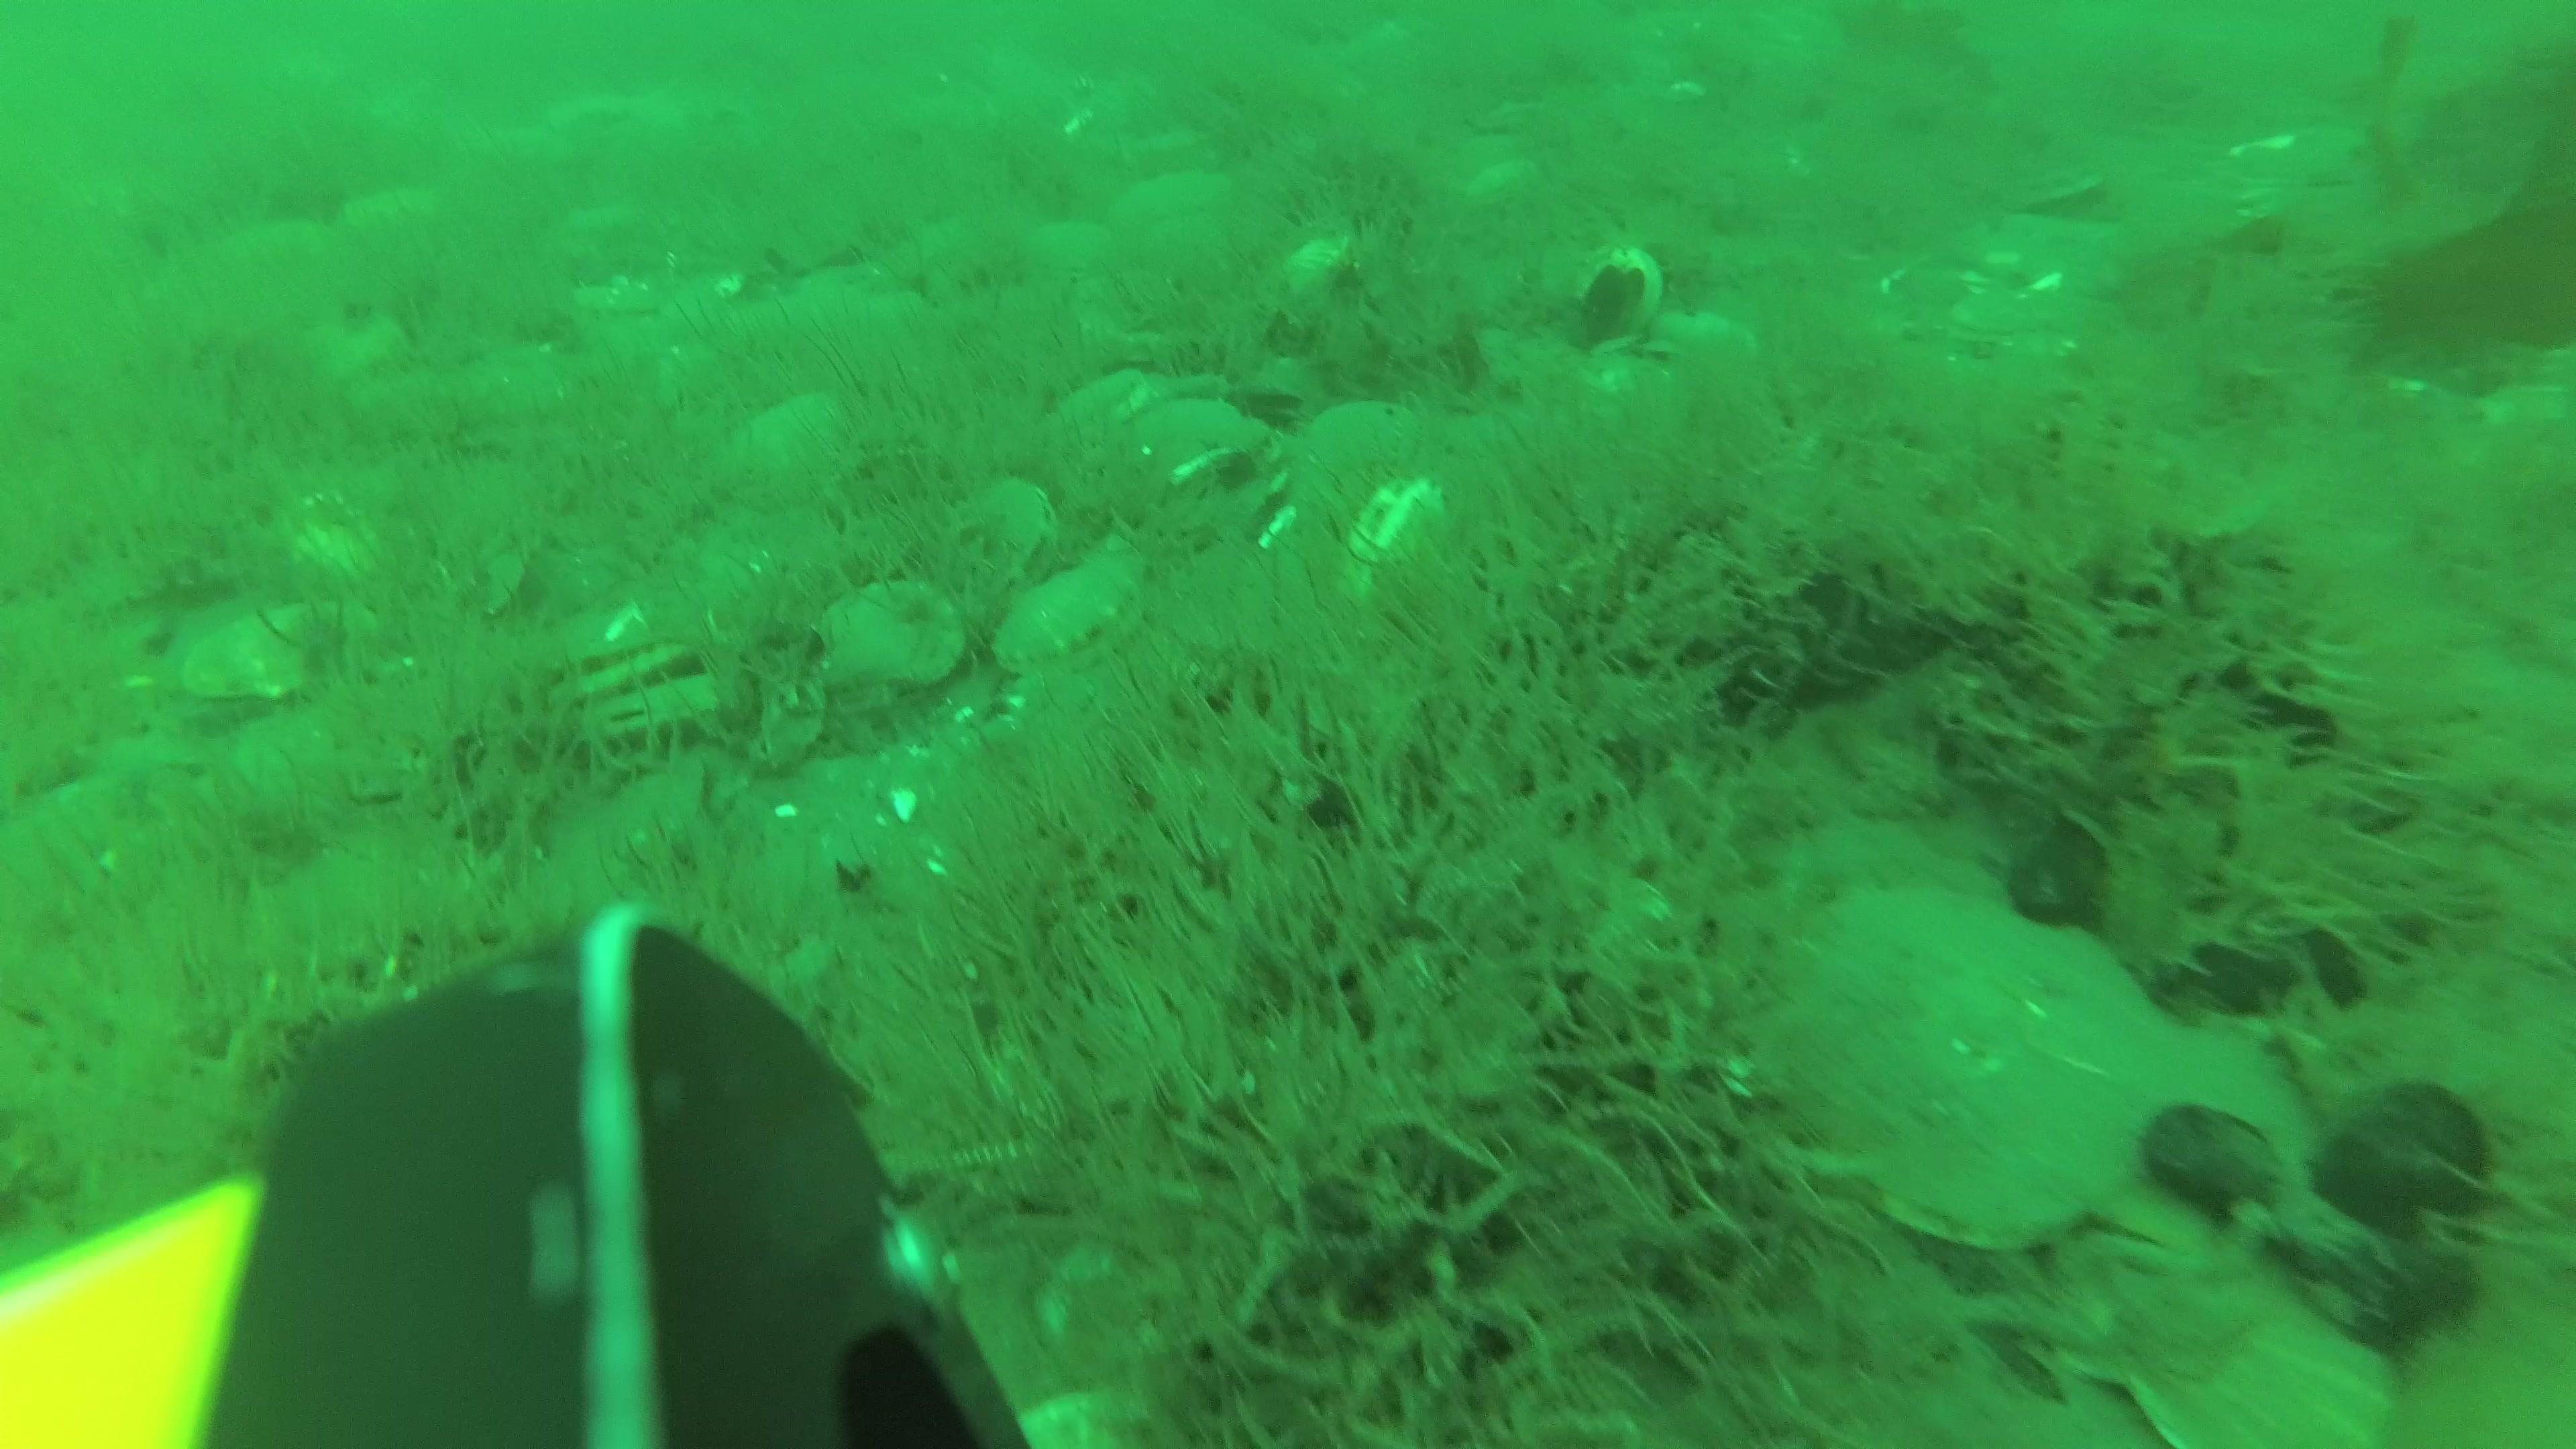scallop: (1771, 874, 2162, 1247), (2107, 1247, 2383, 1447), (2084, 1023, 2307, 1265), (196, 591, 364, 717), (993, 552, 1139, 683), (1166, 540, 1323, 653), (816, 573, 957, 692), (931, 479, 1063, 596), (736, 398, 872, 511), (1123, 400, 1265, 501), (577, 672, 727, 759), (1300, 393, 1426, 495), (554, 644, 695, 711), (1053, 375, 1161, 449), (1256, 230, 1350, 313), (1953, 276, 2063, 338), (540, 612, 649, 669), (1023, 218, 1113, 283)
